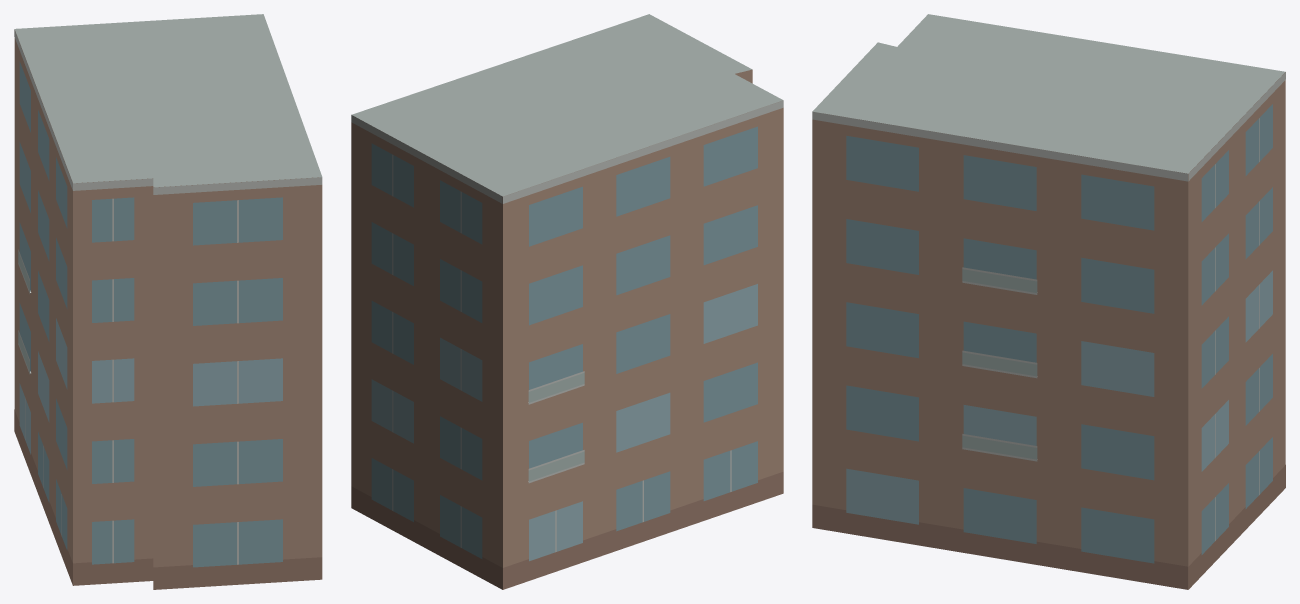
File: survey-upis-32750375.glb
The picture shows the model from 3 angles, left to right: view 1: azimuth 30°, elevation 25°; view 2: azimuth 150°, elevation 25°; view 3: azimuth 270°, elevation 25°; orthographic projection. The views are drawn at different scales.
Parts seen in each view (by area): view 1: survey-upis-32750375.tmp; view 2: survey-upis-32750375.tmp; view 3: survey-upis-32750375.tmp.
Boxes of the visible parts, left/top/right/bottom form: survey-upis-32750375.tmp: left=14, top=14, right=322, bottom=589; survey-upis-32750375.tmp: left=351, top=14, right=783, bottom=589; survey-upis-32750375.tmp: left=812, top=14, right=1285, bottom=589.
Size of the model in its own units: 10.58 by 12.85 by 13.26.
